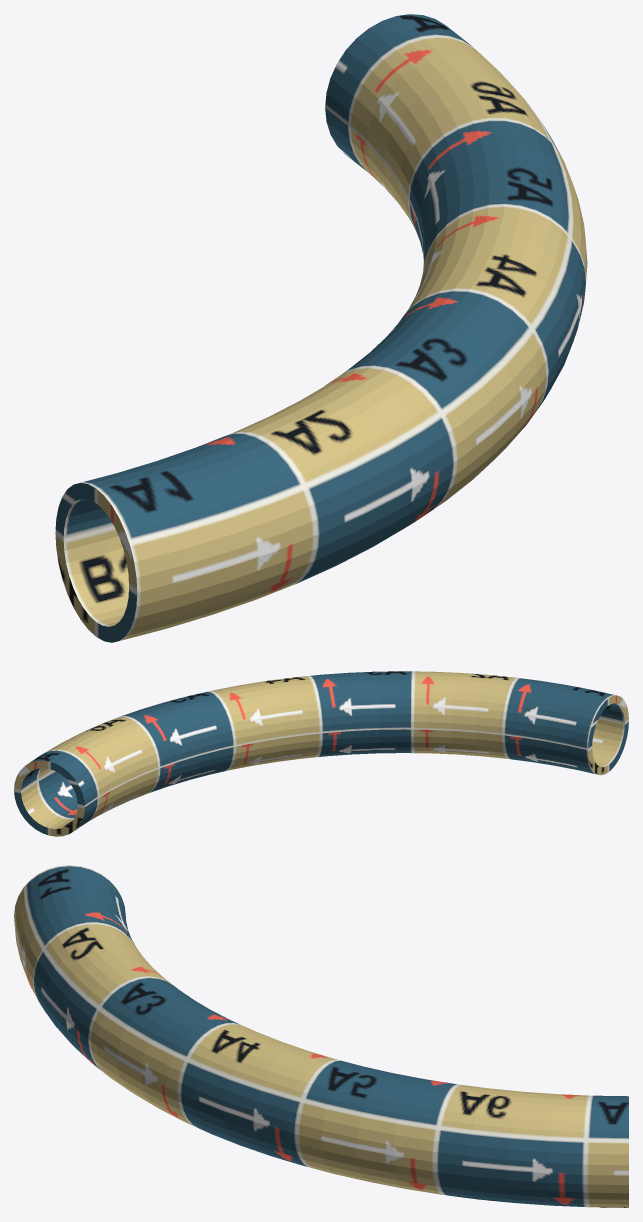
File: PIPE_Elbow90.fbx
3 views of the same model, one above another, from view 1: azimuth 30°, elevation 25°; view 2: azimuth 150°, elevation 25°; view 3: azimuth 270°, elevation 25° (orthographic). The views are drawn at different scales.
Visible parts, largest first — view 1: PIPE_Elbow90; view 2: PIPE_Elbow90; view 3: PIPE_Elbow90.
Boxes of the visible parts, x1=… form: PIPE_Elbow90: x1=55, y1=14, x2=587, y2=642; PIPE_Elbow90: x1=14, y1=671, x2=628, y2=836; PIPE_Elbow90: x1=14, y1=865, x2=628, y2=1207.
Size of the model in its own units: 110 by 20 by 110.
1 material, 1 textured.
